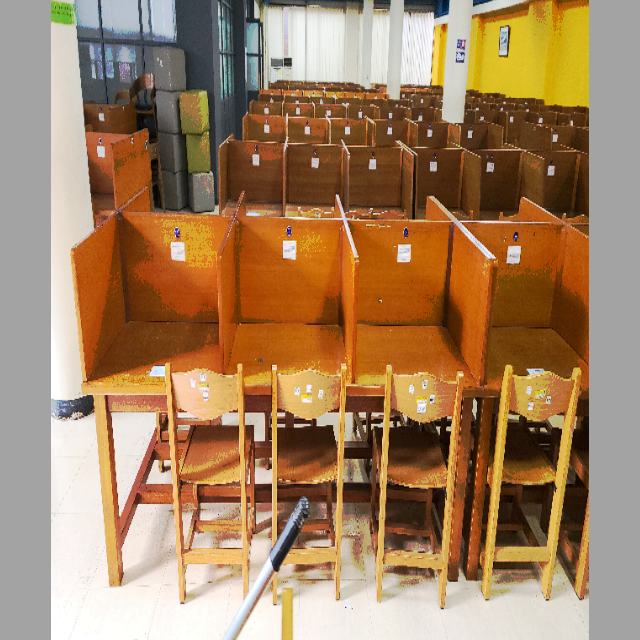empty: (76, 218, 221, 479), (356, 217, 484, 470), (227, 218, 351, 471)
